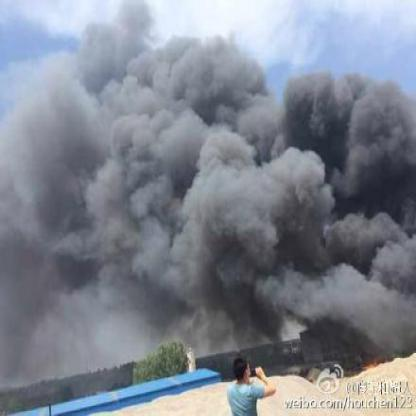smoke: (110, 16, 212, 333), (22, 21, 110, 370), (211, 53, 294, 339), (295, 192, 413, 344), (293, 66, 411, 196)
